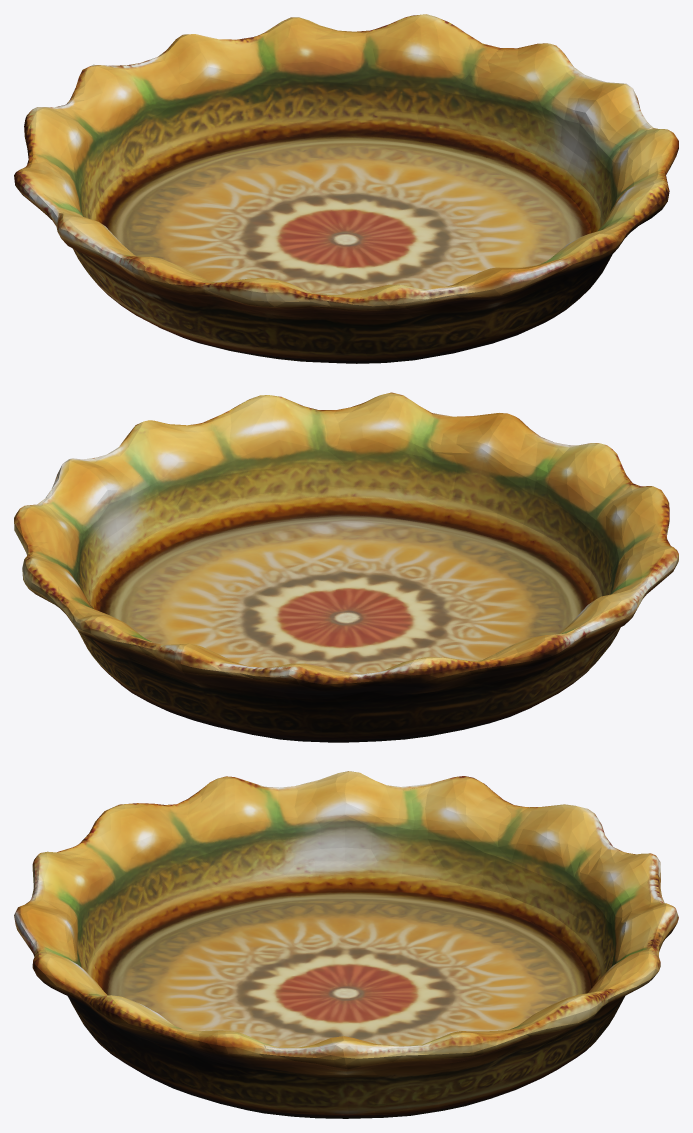
The model's file is ceramic-pie-dish-used-rustic-worn.jpeg.glb.
3 views of the same model, one above another, from view 1: azimuth 30°, elevation 25°; view 2: azimuth 150°, elevation 25°; view 3: azimuth 270°, elevation 25° (orthographic).
Visible parts, largest first — view 1: world; view 2: world; view 3: world.
Boxes of the visible parts, bbox=[...] form: world: bbox=[14, 14, 678, 363]; world: bbox=[14, 392, 678, 742]; world: bbox=[14, 771, 678, 1118].
Bounding box in the file's own units: 1 × 0.1957 × 1.
Materials: 1 (1 with a texture image).
